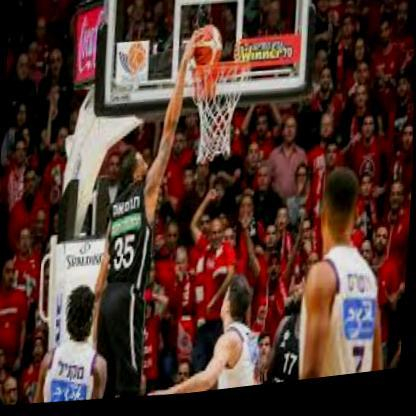basketball: (192, 28, 223, 79)
rim: (190, 60, 254, 88)
